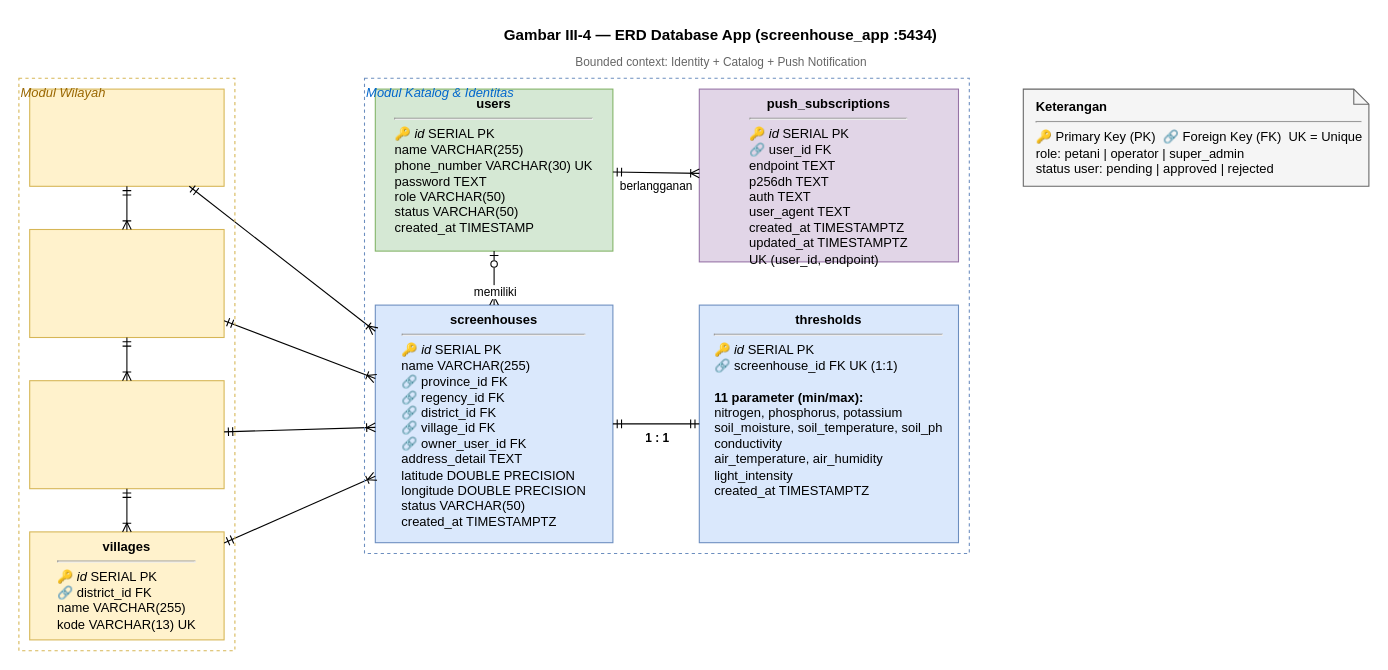
The diagram is 1388 pixels wide and 670 high, and some of its shapes have lost their labels. The shapes that lost their labels are listed below. From the top down, each one's centre as x and y in pixels, then its label:
point (126, 137): provinces 🔑 id SERIAL PK name VARCHAR(255) kode VARCHAR(2) UK
point (126, 283): regencies 🔑 id SERIAL PK 🔗 province_id FK name VARCHAR(255) kode VARCHAR(5) UK
point (126, 434): districts 🔑 id SERIAL PK 🔗 regency_id FK name VARCHAR(255) kode VARCHAR(8) UK
